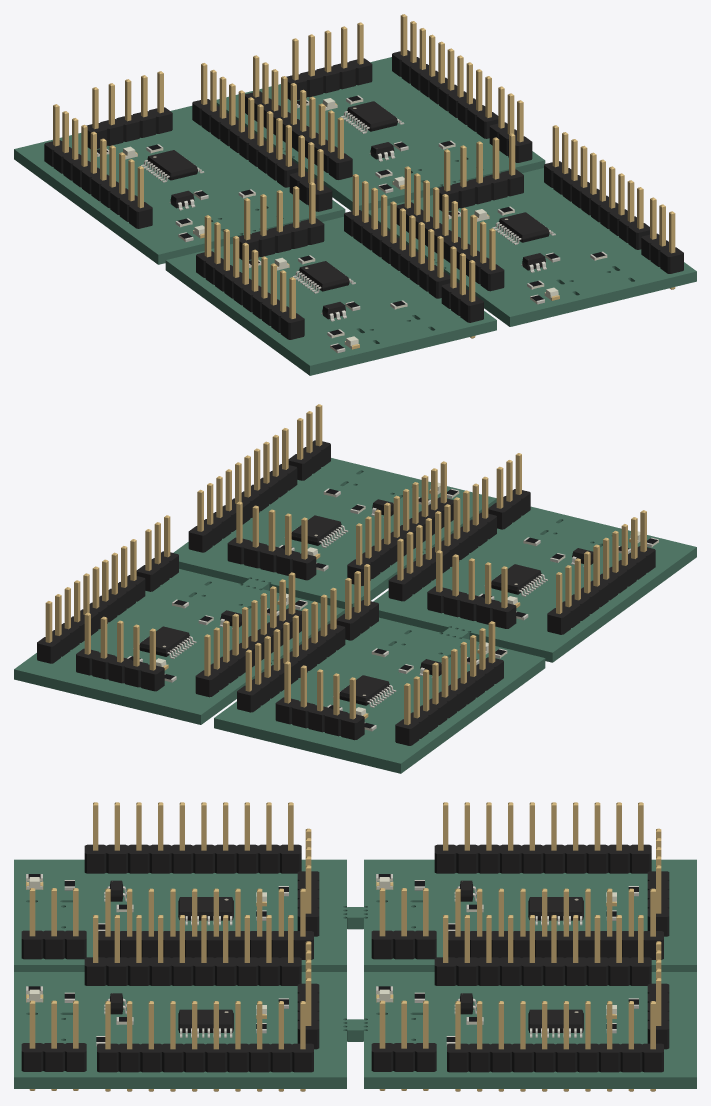
File: panelisedPcb.glb
3 renders of one model, top to bottom at view 1: azimuth 30°, elevation 25°; view 2: azimuth 150°, elevation 25°; view 3: azimuth 270°, elevation 25°, orthographic. The views are drawn at different scales.
Parts seen in each view (by area): view 1: =>[0:1:1:18], =>[0:1:1:7] (×8), =>[0:1:1:15] (×4), =>[0:1:1:9] (×4), =>[0:1:1:5] (×4); view 2: =>[0:1:1:18], =>[0:1:1:7] (×8), =>[0:1:1:15] (×4), =>[0:1:1:9] (×4), =>[0:1:1:5] (×4); view 3: =>[0:1:1:18], =>[0:1:1:7] (×8), =>[0:1:1:9] (×4), =>[0:1:1:15] (×4), =>[0:1:1:5] (×4).
Boxes of the visible parts, x1=… form: =>[0:1:1:18]: x1=14, y1=57, x2=696, y2=375; =>[0:1:1:7] (×8): x1=44, y1=14, x2=649, y2=339; =>[0:1:1:15] (×4): x1=86, y1=22, x2=523, y2=259; =>[0:1:1:9] (×4): x1=289, y1=86, x2=683, y2=338; =>[0:1:1:5] (×4): x1=140, y1=101, x2=555, y2=293; =>[0:1:1:18]: x1=14, y1=458, x2=696, y2=773; =>[0:1:1:7] (×8): x1=37, y1=428, x2=655, y2=745; =>[0:1:1:15] (×4): x1=76, y1=501, x2=516, y2=740; =>[0:1:1:9] (×4): x1=136, y1=404, x2=530, y2=640; =>[0:1:1:5] (×4): x1=133, y1=515, x2=547, y2=707; =>[0:1:1:18]: x1=14, y1=859, x2=696, y2=1088; =>[0:1:1:7] (×8): x1=84, y1=802, x2=663, y2=1091; =>[0:1:1:9] (×4): x1=21, y1=888, x2=436, y2=1090; =>[0:1:1:15] (×4): x1=297, y1=828, x2=669, y2=1049; =>[0:1:1:5] (×4): x1=178, y1=897, x2=583, y2=1037.
Size of the model in its own units: 0.0604 by 0.0115 by 0.08.
